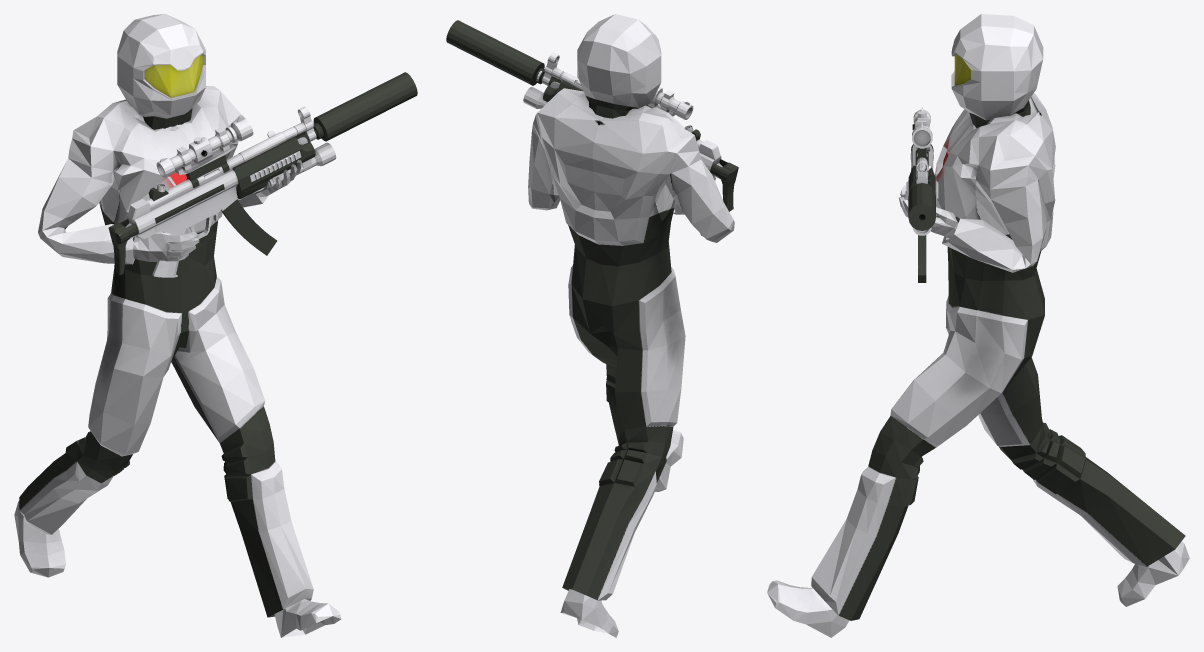
Rendered from walk14.obj.
The picture shows the model from 3 angles, left to right: view 1: azimuth 30°, elevation 25°; view 2: azimuth 150°, elevation 25°; view 3: azimuth 270°, elevation 25°; orthographic projection. The views are drawn at different scales.
Visible parts, largest first — view 1: Male001Skin_001, Object001; view 2: Male001Skin_001, Object001; view 3: Male001Skin_001, Object001.
Boxes of the visible parts, x1,y1,x2,y2 form: Male001Skin_001: (14, 14, 341, 637); Object001: (108, 72, 417, 277); Male001Skin_001: (528, 14, 734, 637); Object001: (446, 20, 738, 214); Male001Skin_001: (767, 14, 1189, 637); Object001: (906, 107, 938, 282).
Size of the model in its own units: 1111 by 1865 by 1181.
1 material, 1 textured.
